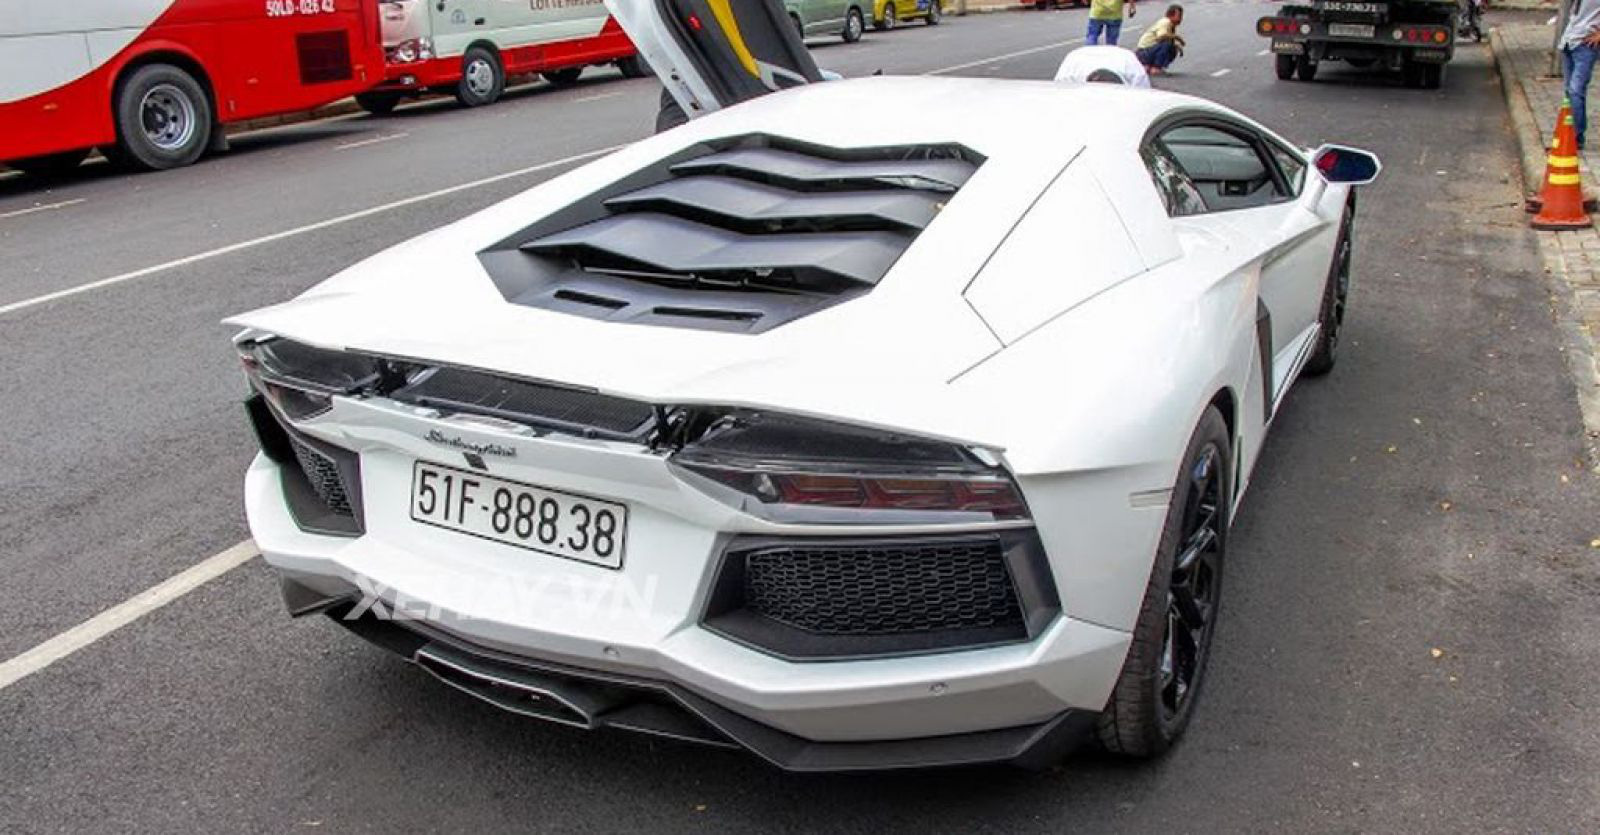number_plate: (412, 460, 637, 572)
